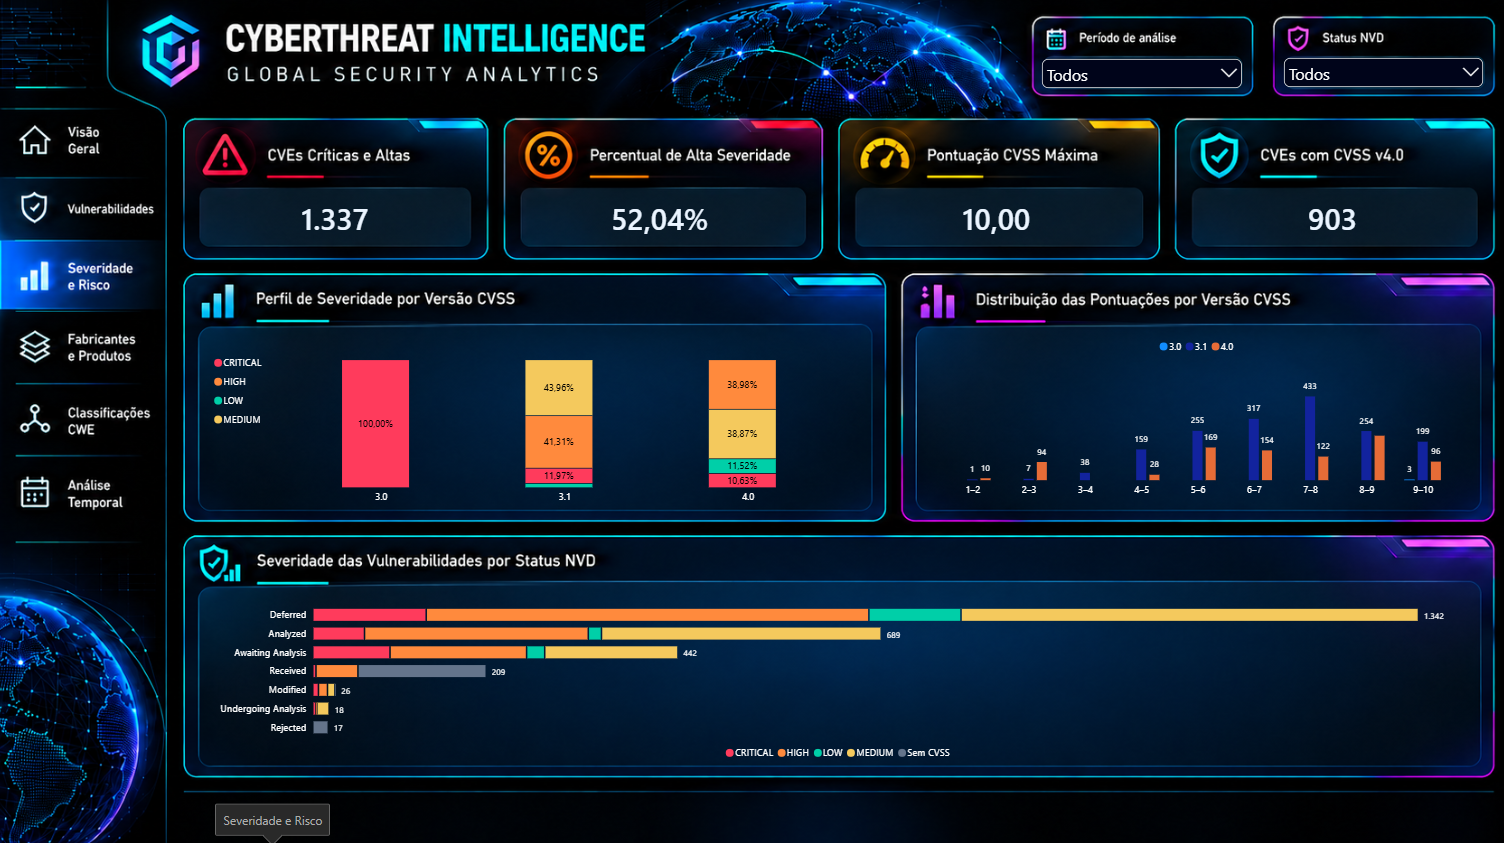

What the dashboard file says about the page in this screenshot:
{"tool":"powerbi","page":{"name":"Severidade e Risco","canvas":[1920,1080],"ordinal":2},"visuals":[{"type":"card","fields":{"Values":["_Medidas.CVEs Críticas e Altas"]},"box":[260.1,238.4,340.4,81.6],"z":0},{"type":"card","fields":{"Values":["_Medidas.Percentual de Alta Severidade"]},"box":[664.2,238.4,358.2,81.6],"z":1000},{"type":"card","fields":{"Values":["_Medidas.Pontuação CVSS Máxima"]},"box":[1086.2,238.4,369.7,81.6],"z":2000},{"type":"card","fields":{"Values":["_Medidas.CVEs com CVSS v4.0"]},"box":[1513.3,238.4,369.7,81.6],"z":3000},{"type":"hundredPercentStackedColumnChart","fields":{"Category":["fato_vulnerabilidade.cvss_versao"],"Series":["fato_vulnerabilidade.cvss_severidade"],"Y":["_Medidas.Total CVEs"]},"box":[260.5,436.4,854.6,225.7],"z":4000},{"type":"slicer","fields":{"Values":["dim_data.data"]},"box":[1323.6,70.9,263.6,128.2],"z":5000},{"type":"slicer","fields":{"Values":["dim_status.status_nvd"]},"box":[1631.5,70.1,263.3,128.4],"z":6000},{"type":"clusteredColumnChart","fields":{"Category":["fato_vulnerabilidade.Faixa Pontuação CVSS"],"Series":["fato_vulnerabilidade.cvss_versao"],"Y":["_Medidas.Total CVEs"]},"box":[1173.3,413,709.3,239.4],"z":7000},{"type":"barChart","fields":{"Category":["fato_vulnerabilidade.status_nvd"],"Series":["fato_vulnerabilidade.Severidade CVSS Exibição"],"Y":["_Medidas.Total CVEs"]},"box":[260.5,743.3,1622.5,244],"z":8000},{"type":"actionButton","box":[0,237.6,100.4,55.9],"z":9000},{"type":"actionButton","box":[10.2,420.6,78.8,57.2],"z":10000},{"type":"actionButton","box":[0,513.3,88.9,59.7],"z":10001},{"type":"actionButton","box":[10,595,78.8,68.8],"z":10002},{"type":"actionButton","box":[22.5,156.2,52.5,53.8],"z":10003}]}

Visuals, with their boxes on the page's 1920x1080 design canvas (x1, y1, x2, y2). These are canvas units, not pixel positions in the 1504x843 screenshot, which may show the page scaled, cropped or inside an application window:
card - _Medidas.CVEs Críticas e Altas: x1=260, y1=238, x2=600, y2=320
card - _Medidas.Percentual de Alta Severidade: x1=664, y1=238, x2=1022, y2=320
card - _Medidas.Pontuação CVSS Máxima: x1=1086, y1=238, x2=1456, y2=320
card - _Medidas.CVEs com CVSS v4.0: x1=1513, y1=238, x2=1883, y2=320
hundredPercentStackedColumnChart - fato_vulnerabilidade.cvss_versao x fato_vulnerabilidade.cvss_severidade: x1=260, y1=436, x2=1115, y2=662
slicer - dim_data.data: x1=1324, y1=71, x2=1587, y2=199
slicer - dim_status.status_nvd: x1=1632, y1=70, x2=1895, y2=198
clusteredColumnChart - fato_vulnerabilidade.Faixa Pontuação CVSS x fato_vulnerabilidade.cvss_versao: x1=1173, y1=413, x2=1883, y2=652
barChart - fato_vulnerabilidade.status_nvd x fato_vulnerabilidade.Severidade CVSS Exibição: x1=260, y1=743, x2=1883, y2=987
actionButton: x1=0, y1=238, x2=100, y2=294
actionButton: x1=10, y1=421, x2=89, y2=478
actionButton: x1=0, y1=513, x2=89, y2=573
actionButton: x1=10, y1=595, x2=89, y2=664
actionButton: x1=22, y1=156, x2=75, y2=210
